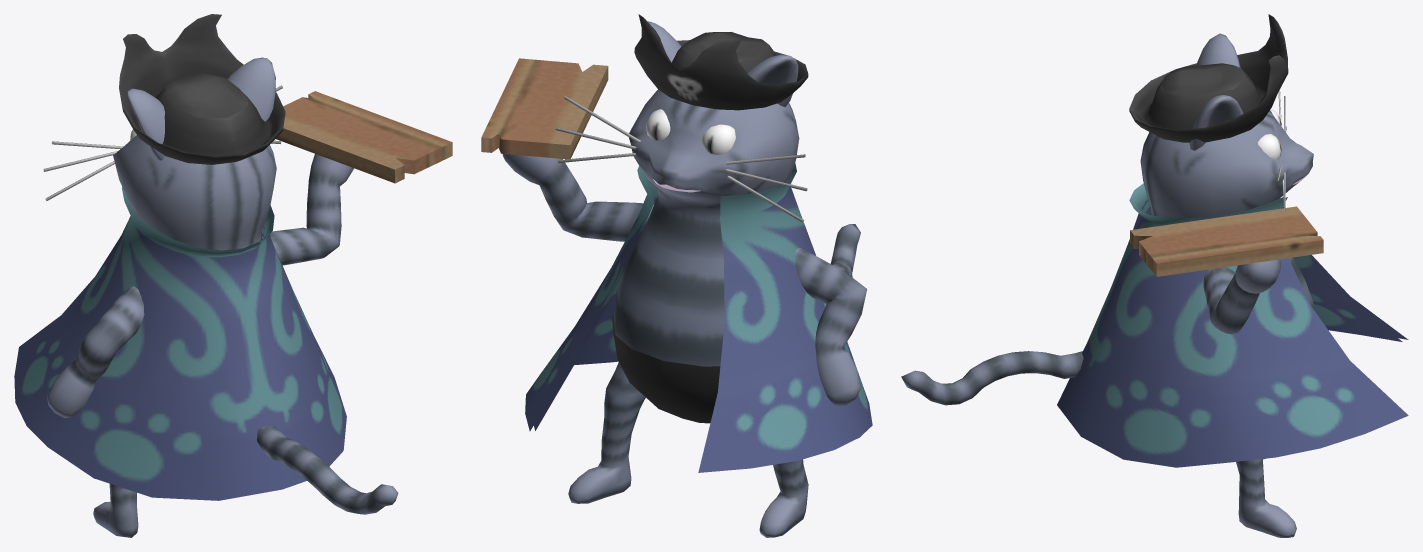
The model's file is neko_idle_c_06.fbx.
3 views of the same model, side by side, from view 1: azimuth 30°, elevation 25°; view 2: azimuth 150°, elevation 25°; view 3: azimuth 270°, elevation 25° (orthographic). The views are drawn at different scales.
Visible parts, largest first — view 1: I_c_06; view 2: I_c_06; view 3: I_c_06.
Boxes of the visible parts, x1,y1,x2,y2 form: I_c_06: (14, 14, 452, 537); I_c_06: (481, 14, 872, 537); I_c_06: (901, 14, 1408, 537).
Bounding box in the file's own units: 1.56 × 1.93 × 1.95.
1 material, 1 textured.
